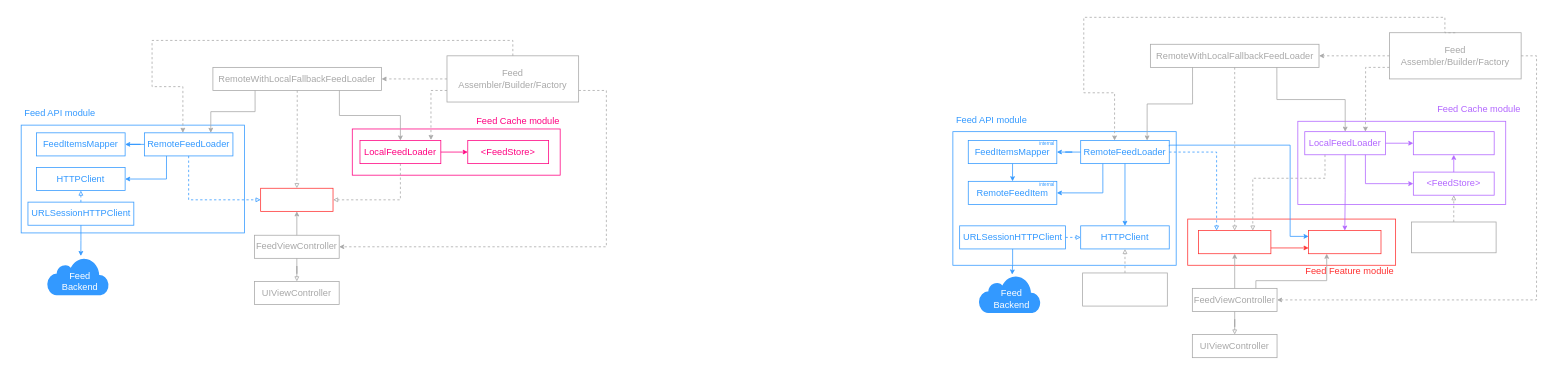
Some shapes in this 1555 by 371 pixel diagram are drawn without their labels. Each missing label, with the centre of its shape:
<Feed Feature>: [296,199]
<FeedLoader>: [1234,242]
AnyFeedStore Implementation: [1453,237]
AnyHTTPClient Implementation: [1124,289]
FeedItem: [1344,242]
LocalFeedItem: [1453,143]
